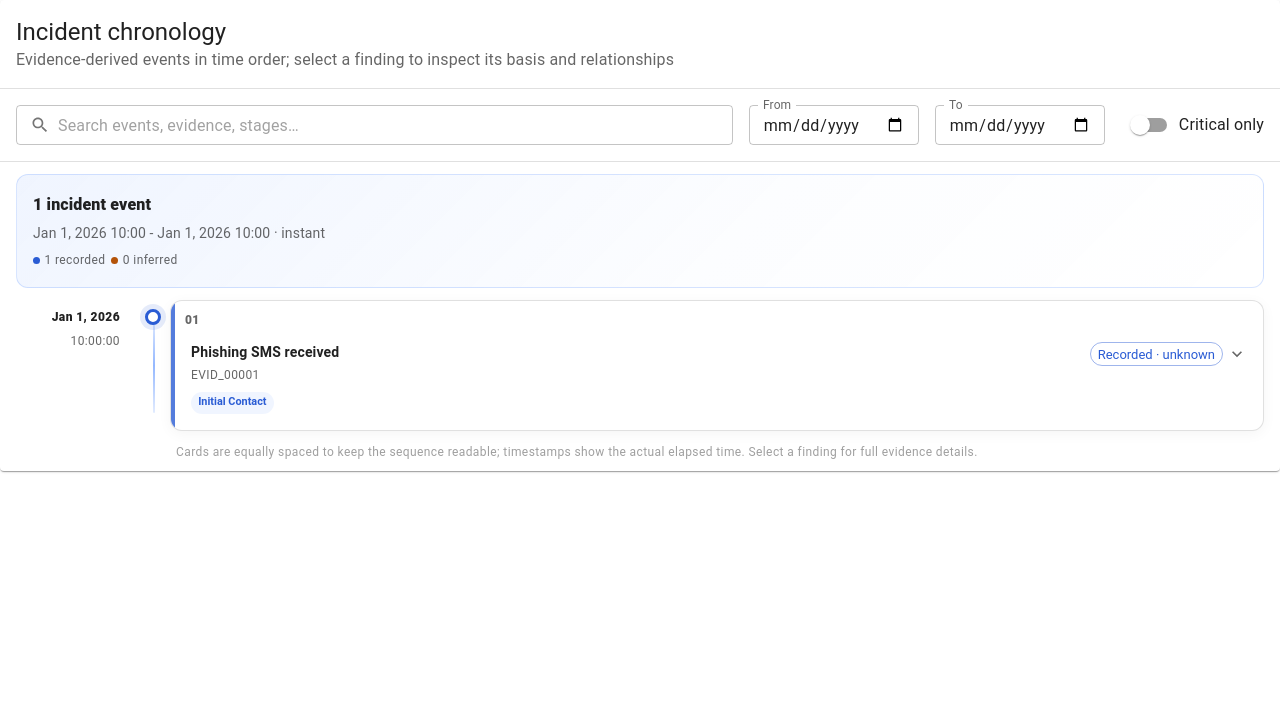
Test case: TimelineTab event details › collapses again when the same event is clicked twice
This screenshot has width=1280, height=720.
Click the button at (265, 352), box [185,336,1253,420]
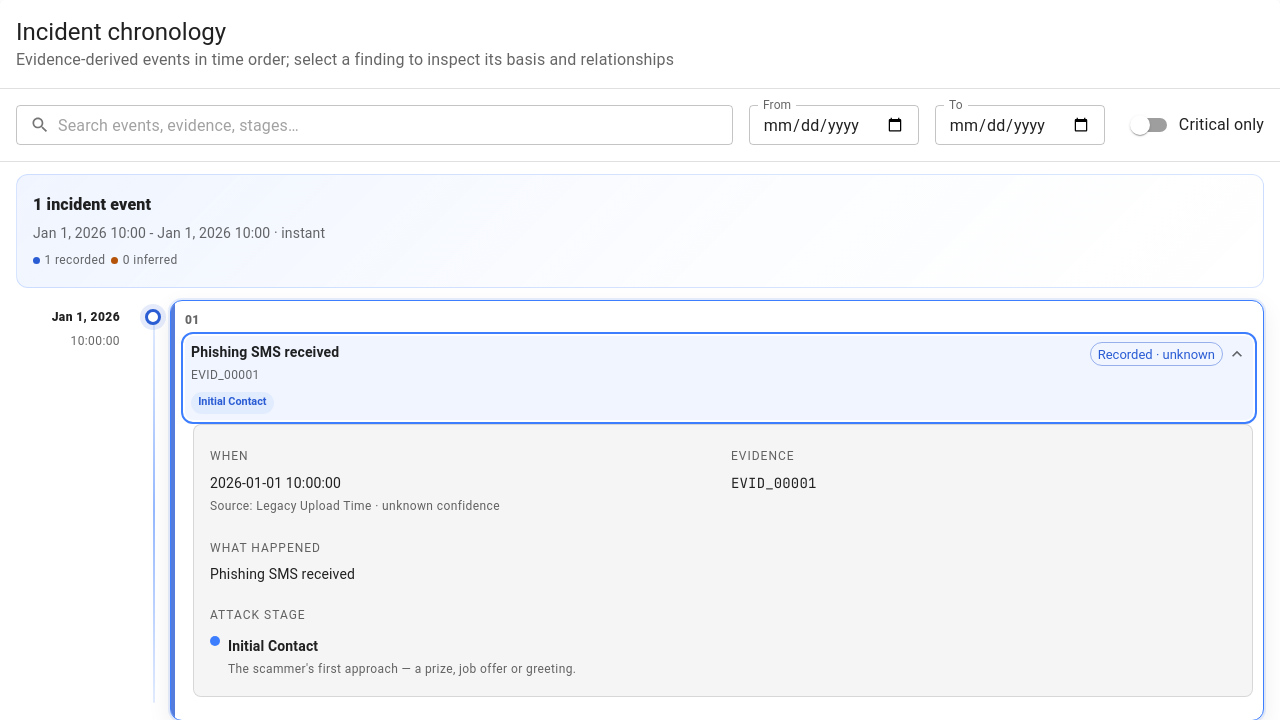
Now the button is expanded
Click the button at (265, 352), box [185,336,1253,420]
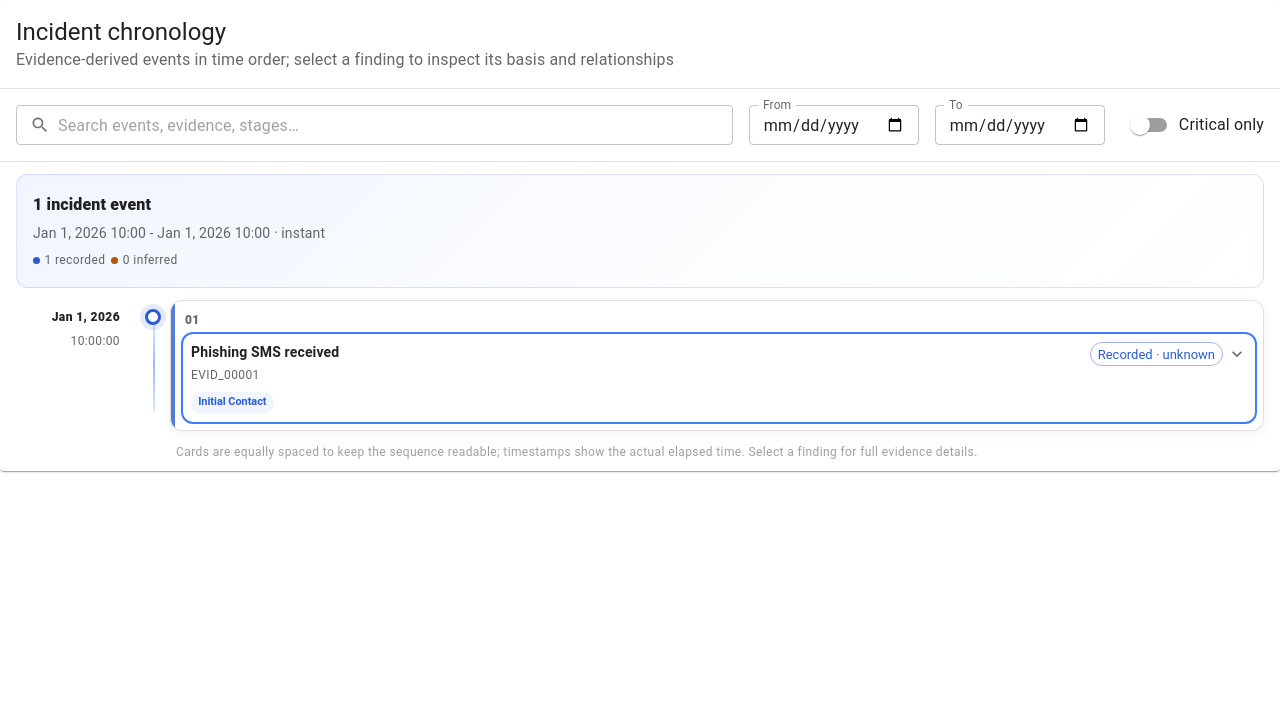
Now the button is collapsed, box [185,336,1253,420]
